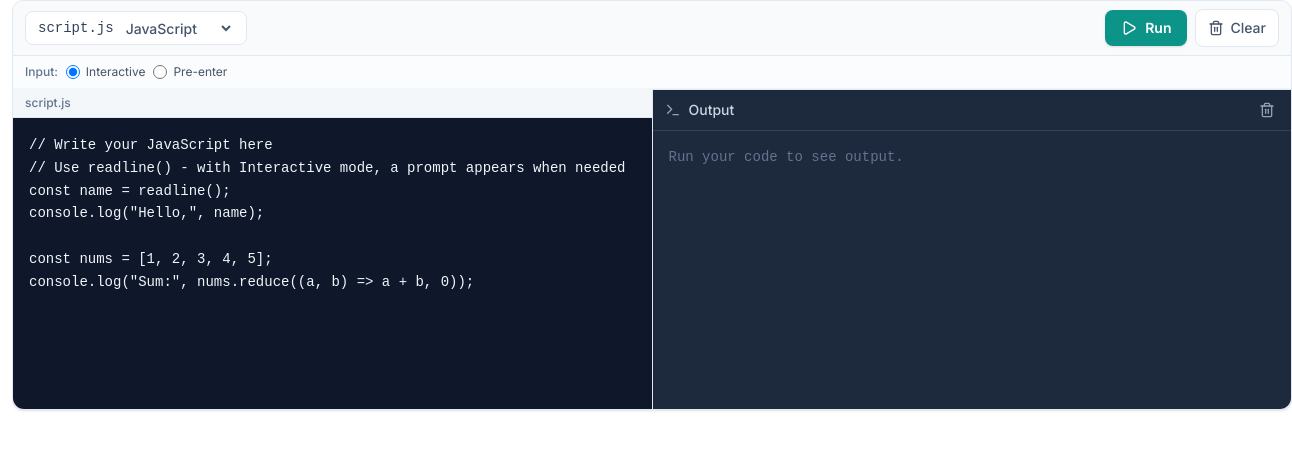
CodeBlock › input mode controls (console + javascript/python) › shows stdin textarea when Pre-enter mode and "Show stdin" clicked
This screenshot has width=1292, height=458.
Click the radio button labelled "Pre-enter".
click(160, 72)  # box top-left (153, 65), bottom-right (167, 79)
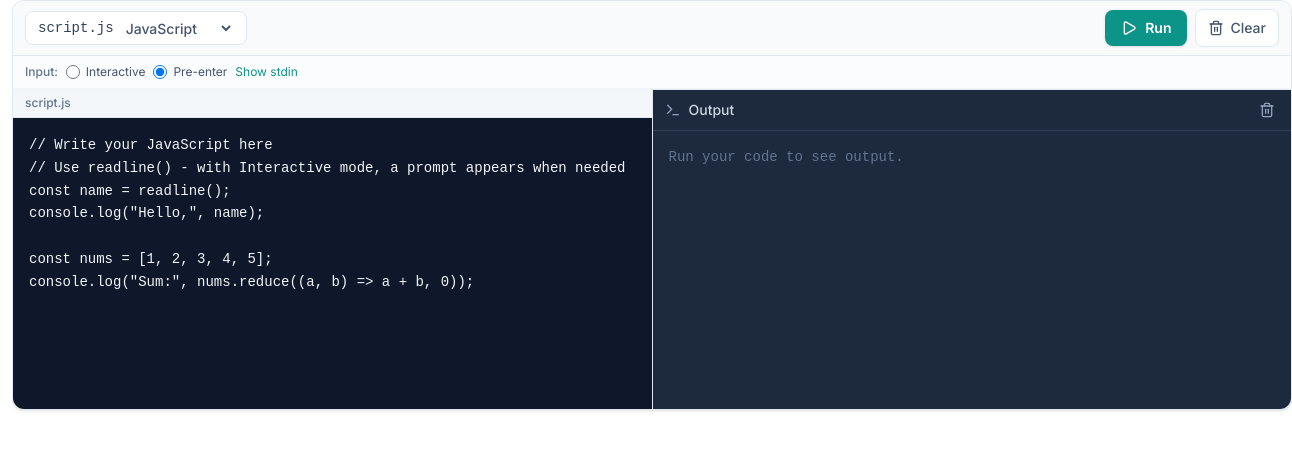
Click the button "Show stdin".
click(267, 72)  # box top-left (235, 64), bottom-right (298, 80)
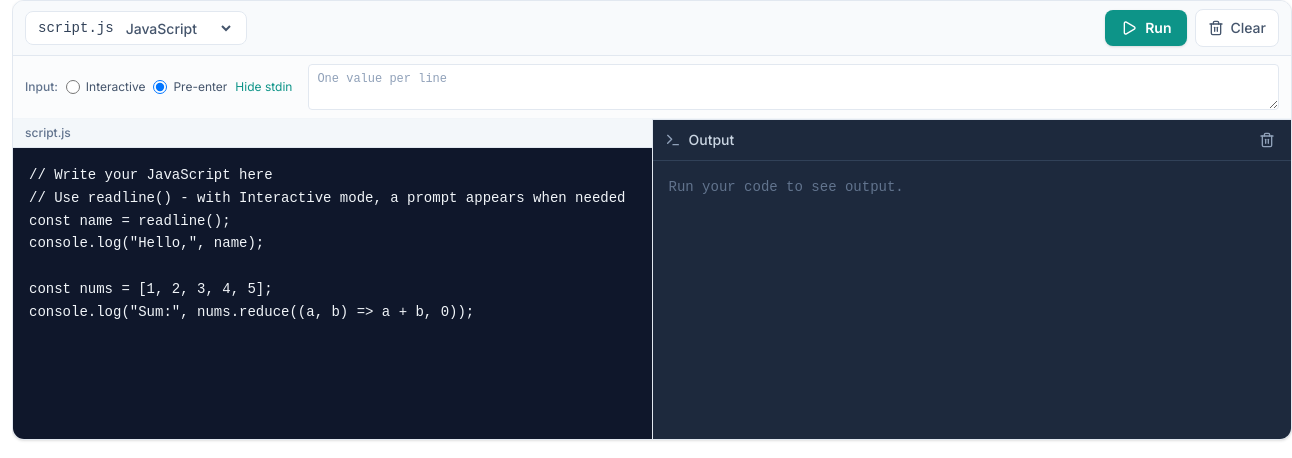
Check: the text box with placeholder "One value per line" is shown, box top-left (308, 64), bottom-right (1279, 110)
